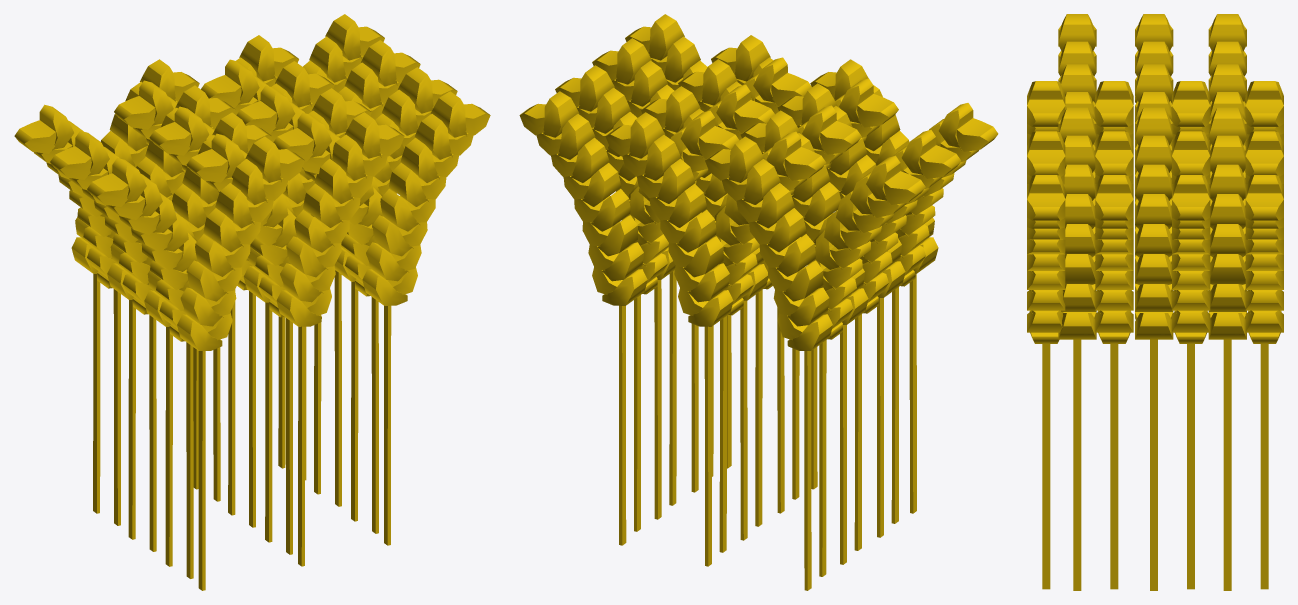
The model's file is WheatBushel.fbx.
3 views of the same model, side by side, from view 1: azimuth 30°, elevation 25°; view 2: azimuth 150°, elevation 25°; view 3: azimuth 270°, elevation 25° (orthographic). The views are drawn at different scales.
Parts seen in each view (by area): view 1: pCube157; view 2: pCube157; view 3: pCube157.
Part boxes in pixels (x1=…): pCube157: x1=14, y1=14, x2=490, y2=590; pCube157: x1=519, y1=14, x2=998, y2=590; pCube157: x1=1027, y1=14, x2=1283, y2=590.
Size of the model in its own units: 1.55 by 1.7 by 0.8805.
